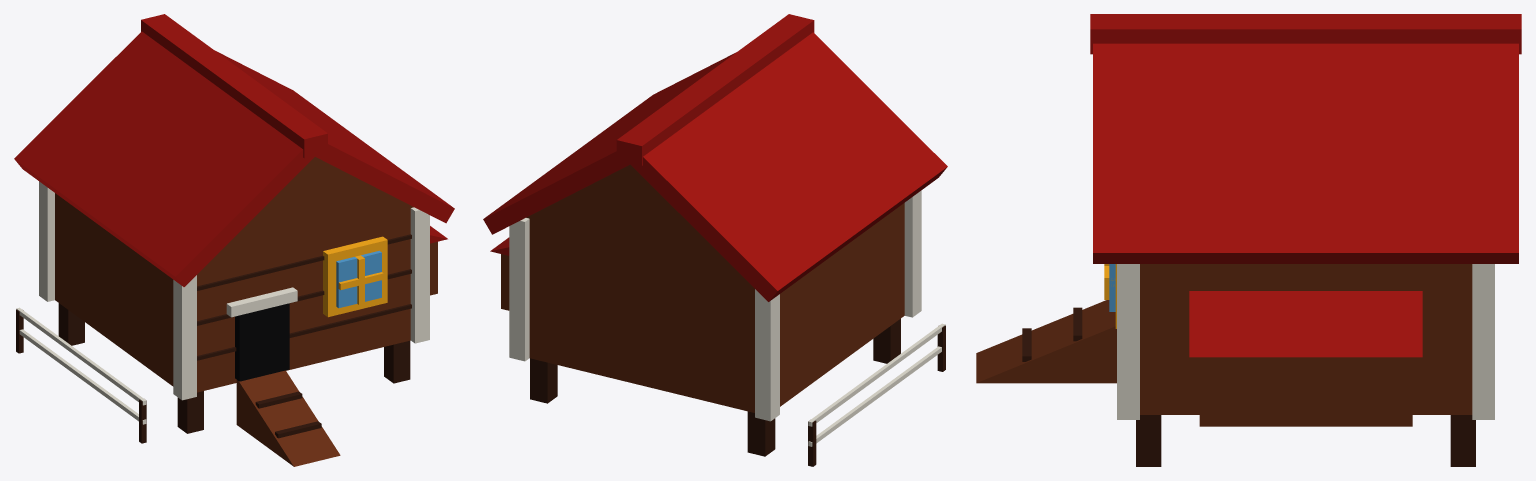
File: LittleCoop.obj
The picture shows the model from 3 angles, left to right: view 1: azimuth 30°, elevation 25°; view 2: azimuth 150°, elevation 25°; view 3: azimuth 270°, elevation 25°; orthographic projection. The views are drawn at different scales.
Parts seen in each view (by area): view 1: LittleCoop; view 2: LittleCoop; view 3: LittleCoop.
Part boxes in pixels (x1,y1,x2,y2): LittleCoop: (14, 14, 454, 466); LittleCoop: (483, 14, 947, 466); LittleCoop: (976, 14, 1521, 466).
Bounding box in the file's own units: 2.74 × 2.27 × 3.01.
